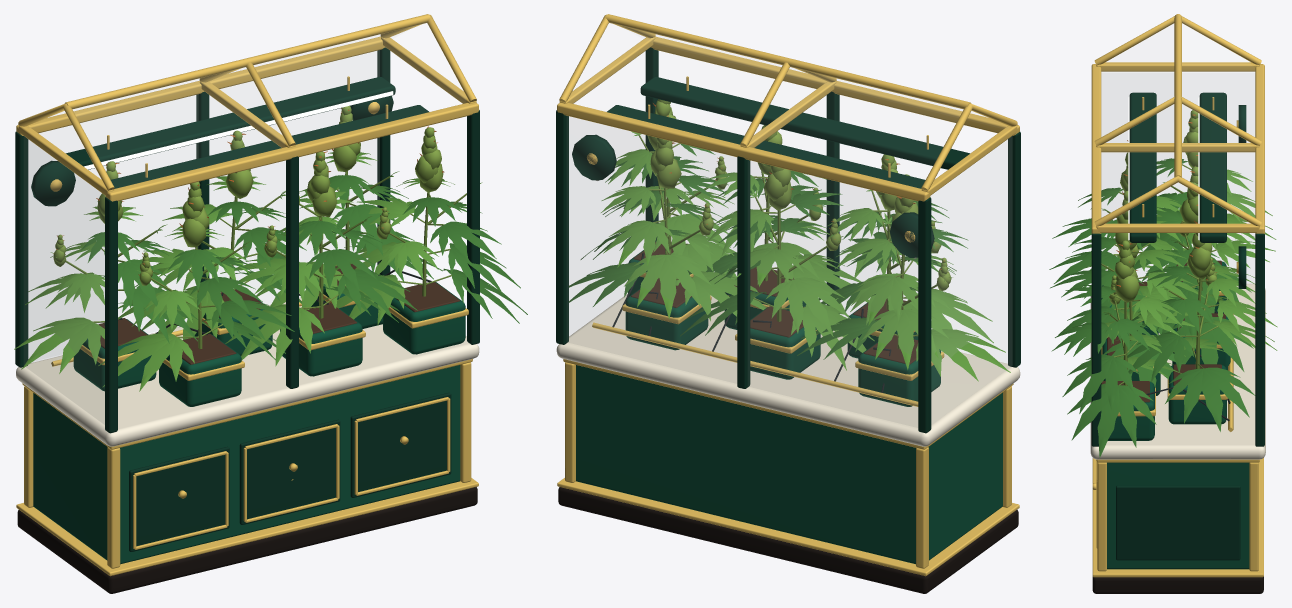
Rendered from grow_bench_founder.glb.
3 renders of one model, left to right at view 1: azimuth 30°, elevation 25°; view 2: azimuth 150°, elevation 25°; view 3: azimuth 270°, elevation 25°, orthographic. The views are drawn at different scales.
Visible parts, largest first — view 1: Body, GlassEnd, Top, GlassBack, Plinth, Panel2, Panel1, Panel0, LedBar1, Eave-0.42, PlinthBrass, Eave0.42 (+60 smaller); view 2: GlassBack, Body, Top, GlassEnd, Plinth, LedBar0, Eave0.42, PlinthBrass, Eave-0.42, Ridge, FramePost-0.980.42, FramePost0.000.42 (+48 smaller); view 3: EndPanel, Top, Body, LedBar1, LedBar0, Plinth, PlinthBrass, P2Leaf00, P5Leaf00, FramePost0.980.42, FramePost0.98-0.42, P5Leaf13 (+51 smaller).
Boxes of the visible parts, left/top/right/bottom form: Body: left=33, top=365, right=460, bottom=564; GlassEnd: left=24, top=137, right=104, bottom=423; Top: left=16, top=297, right=479, bottom=446; GlassBack: left=40, top=126, right=379, bottom=332; Plinth: left=17, top=487, right=477, bottom=593; Panel2: left=350, top=392, right=451, bottom=497; Panel1: left=239, top=419, right=340, bottom=524; Panel0: left=129, top=446, right=229, bottom=551; LedBar1: left=66, top=77, right=395, bottom=169; Eave-0.42: left=105, top=102, right=478, bottom=201; PlinthBrass: left=16, top=478, right=478, bottom=576; Eave0.42: left=16, top=36, right=385, bottom=135; GlassBack: left=567, top=116, right=917, bottom=427; Body: left=576, top=365, right=1002, bottom=564; Top: left=556, top=294, right=1020, bottom=446; GlassEnd: left=931, top=137, right=1011, bottom=423; Plinth: left=558, top=487, right=1018, bottom=593; LedBar0: left=640, top=76, right=969, bottom=169; Eave0.42: left=557, top=102, right=930, bottom=201; PlinthBrass: left=557, top=478, right=1019, bottom=576; Eave-0.42: left=650, top=36, right=1019, bottom=135; Ridge: left=605, top=14, right=971, bottom=109; FramePost-0.980.42: left=918, top=197, right=931, bottom=433; FramePost0.000.42: left=737, top=156, right=750, bottom=388; EndPanel: left=1116, top=485, right=1240, bottom=560; Top: left=1090, top=283, right=1265, bottom=459; Body: left=1107, top=462, right=1249, bottom=569; LedBar1: left=1199, top=92, right=1226, bottom=242; LedBar0: left=1129, top=92, right=1156, bottom=242; Plinth: left=1092, top=576, right=1263, bottom=593; PlinthBrass: left=1092, top=458, right=1263, bottom=577; P2Leaf00: left=1165, top=367, right=1255, bottom=431; P5Leaf00: left=1067, top=383, right=1156, bottom=457; FramePost0.980.42: left=1255, top=233, right=1264, bottom=446; FramePost0.98-0.42: left=1091, top=233, right=1101, bottom=446; P5Leaf13: left=1062, top=354, right=1138, bottom=413.
Bounding box in the file's own units: 2.5 × 2.37 × 1.17.
